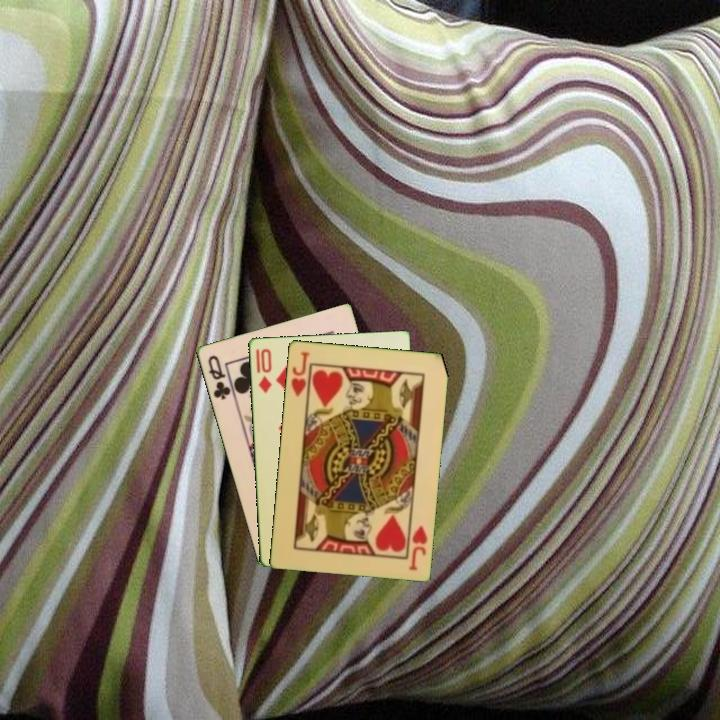10d: (255, 345, 274, 395)
Jh: (287, 348, 312, 399), (405, 522, 430, 573)
Qc: (204, 351, 236, 402)
